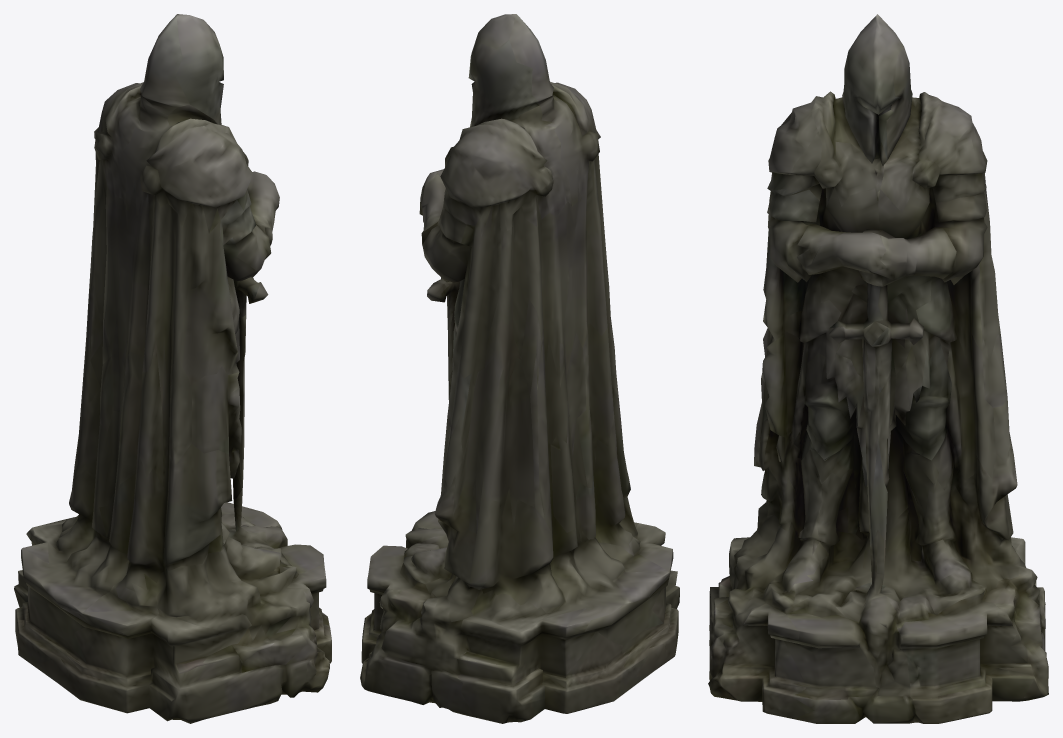
The model's file is guardian-statue.glb.
3 views of the same model, side by side, from view 1: azimuth 30°, elevation 25°; view 2: azimuth 150°, elevation 25°; view 3: azimuth 270°, elevation 25° (orthographic). The views are drawn at different scales.
Parts seen in each view (by area): view 1: tripo_node_b69c8701-ad17-4577-a87c-157f61c6d0cb; view 2: tripo_node_b69c8701-ad17-4577-a87c-157f61c6d0cb; view 3: tripo_node_b69c8701-ad17-4577-a87c-157f61c6d0cb.
Boxes of the visible parts, box(x1,y1,x2,y2) form: tripo_node_b69c8701-ad17-4577-a87c-157f61c6d0cb: box(14, 14, 331, 723); tripo_node_b69c8701-ad17-4577-a87c-157f61c6d0cb: box(360, 14, 679, 723); tripo_node_b69c8701-ad17-4577-a87c-157f61c6d0cb: box(708, 14, 1048, 723).
Bounding box in the file's own units: 0.4111 × 1 × 0.4737.
Materials: 1 (1 with a texture image).
